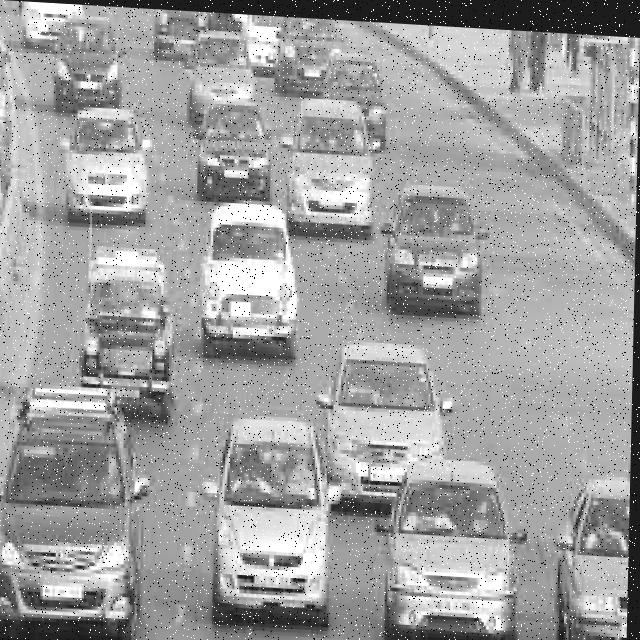car: (1, 397, 146, 629), (379, 425, 531, 640), (198, 402, 340, 609), (68, 254, 182, 405), (198, 195, 300, 345), (381, 167, 487, 303), (558, 448, 633, 640), (290, 90, 386, 229), (62, 112, 151, 222)
